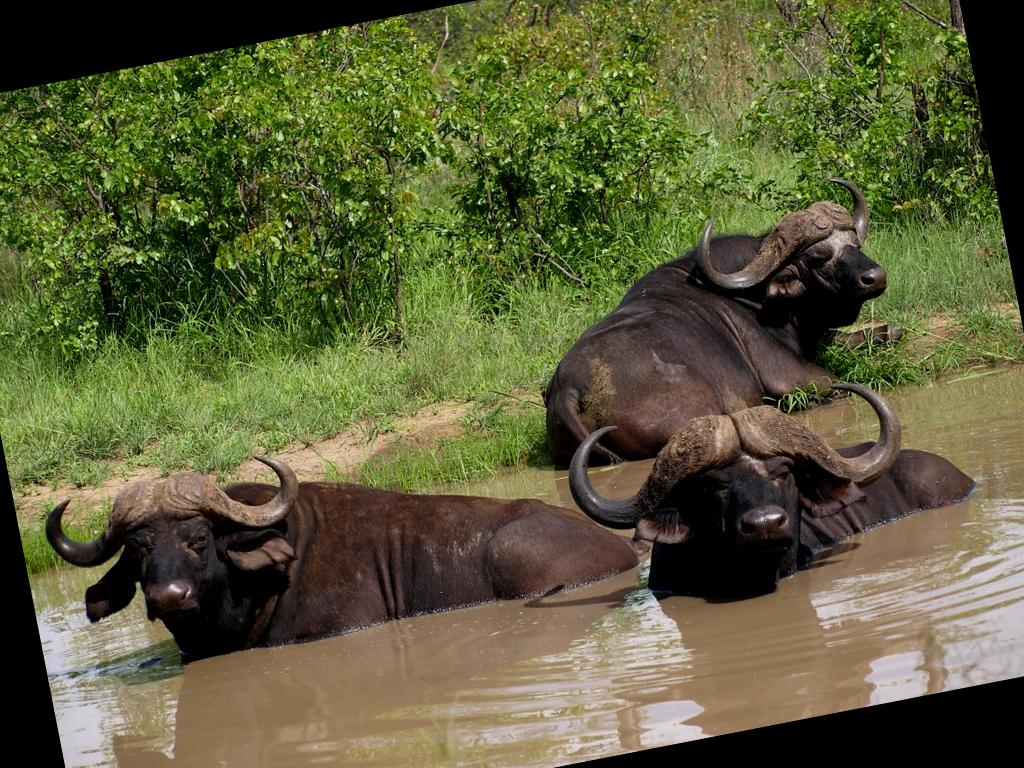Buffalo: (12, 100, 946, 694)
